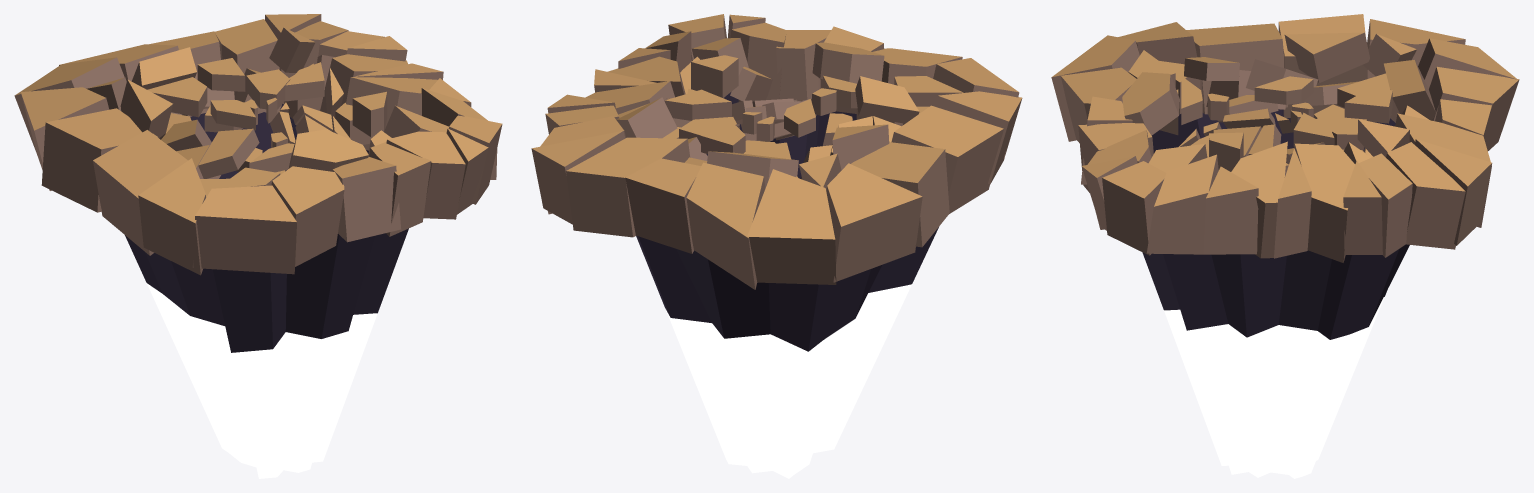
Rendered from geothermal_hole_01.glb.
The picture shows the model from 3 angles, left to right: view 1: azimuth 30°, elevation 25°; view 2: azimuth 150°, elevation 25°; view 3: azimuth 270°, elevation 25°; orthographic projection. The views are drawn at different scales.
Parts seen in each view (by area): view 1: Plane.058; view 2: Plane.058; view 3: Plane.058.
Part boxes in pixels (left/top/right/bottom): Plane.058: left=14, top=14, right=502, bottom=478; Plane.058: left=531, top=14, right=1022, bottom=478; Plane.058: left=1051, top=14, right=1519, bottom=478.
Size of the model in its own units: 61.41 by 59.01 by 66.46.
Materials: 2 (1 with a texture image).
